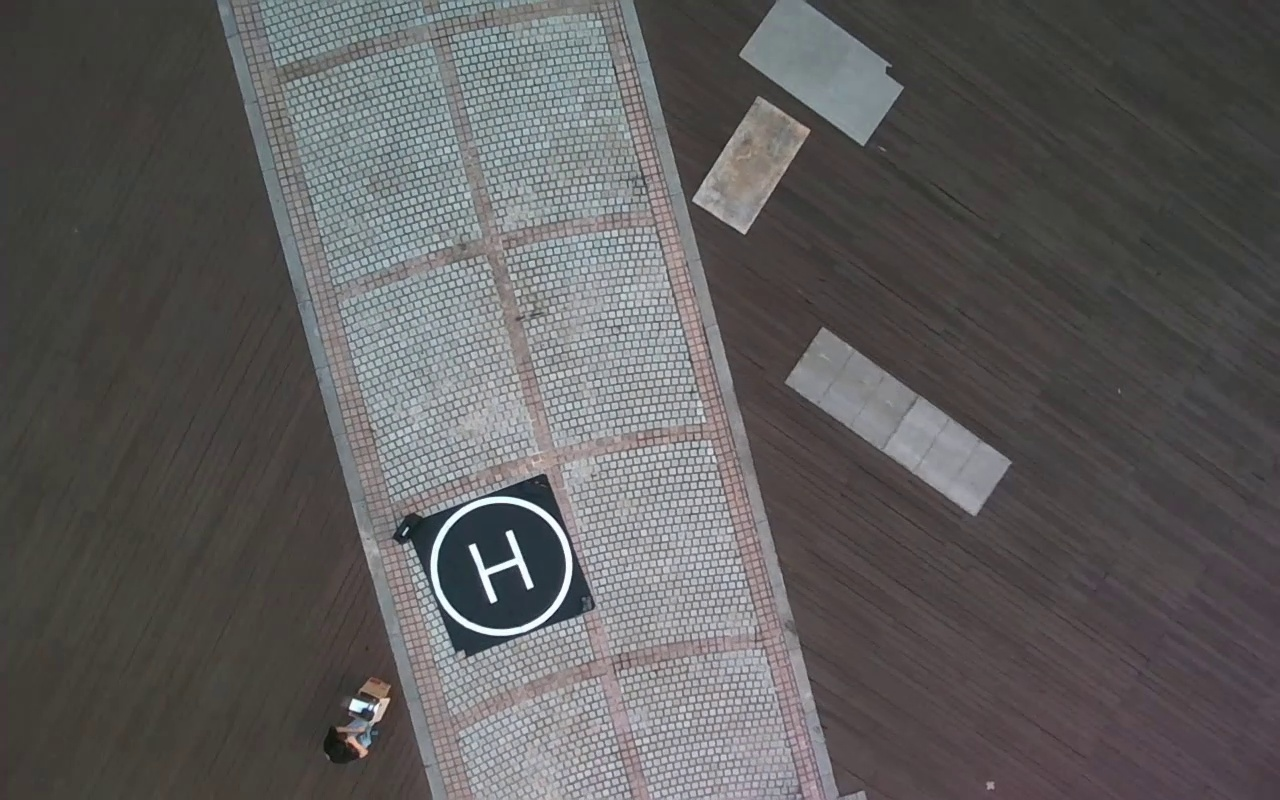H: (466, 527, 536, 604)
heliport: (430, 495, 573, 637)
